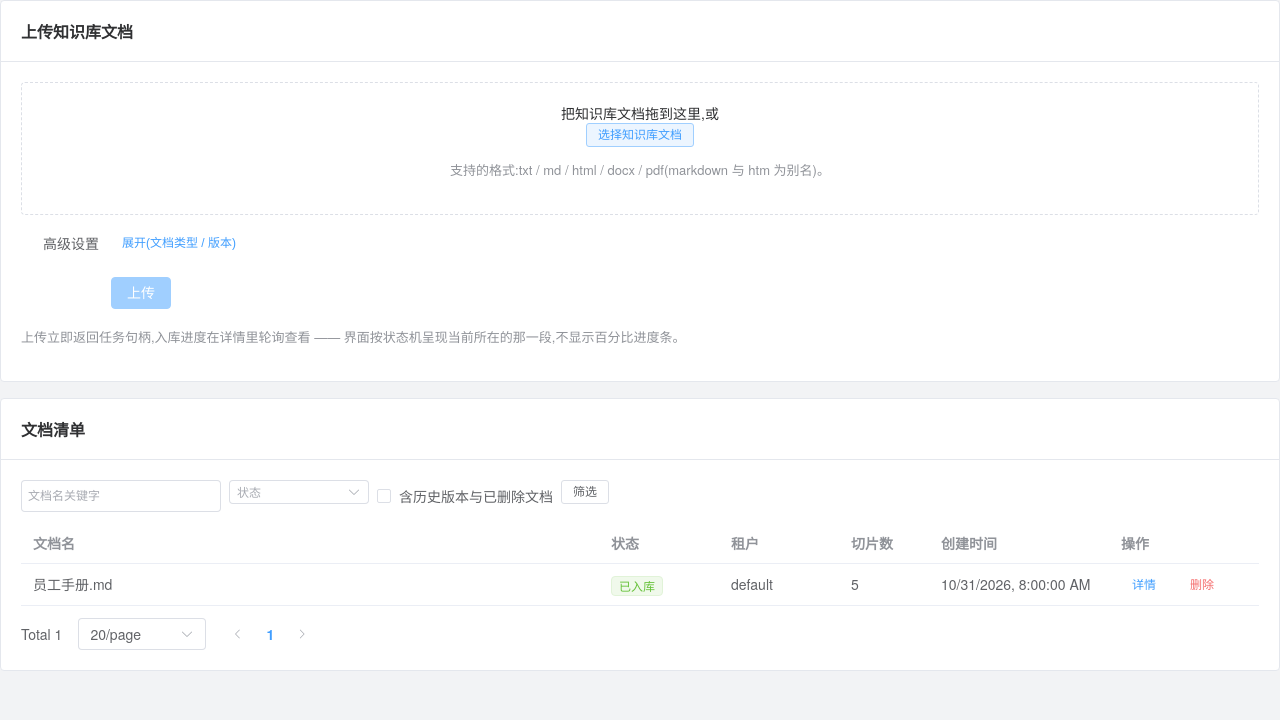
知识库文档页组件行为 › 入库进度 › 界面不展示百分比进度条
Expected: the row "员工手册.md 已入库 default 5 10/31/2026, 8:00:00 AM 详情 删除" is shown, x1=21 y1=564 x2=1259 y2=606
What coordinates should you click on to do the following:
click the button with test id "documents-detail-doc-1"
I would click on:
 (1144, 585)
Its box is x1=1121 y1=573 x2=1167 y2=597.
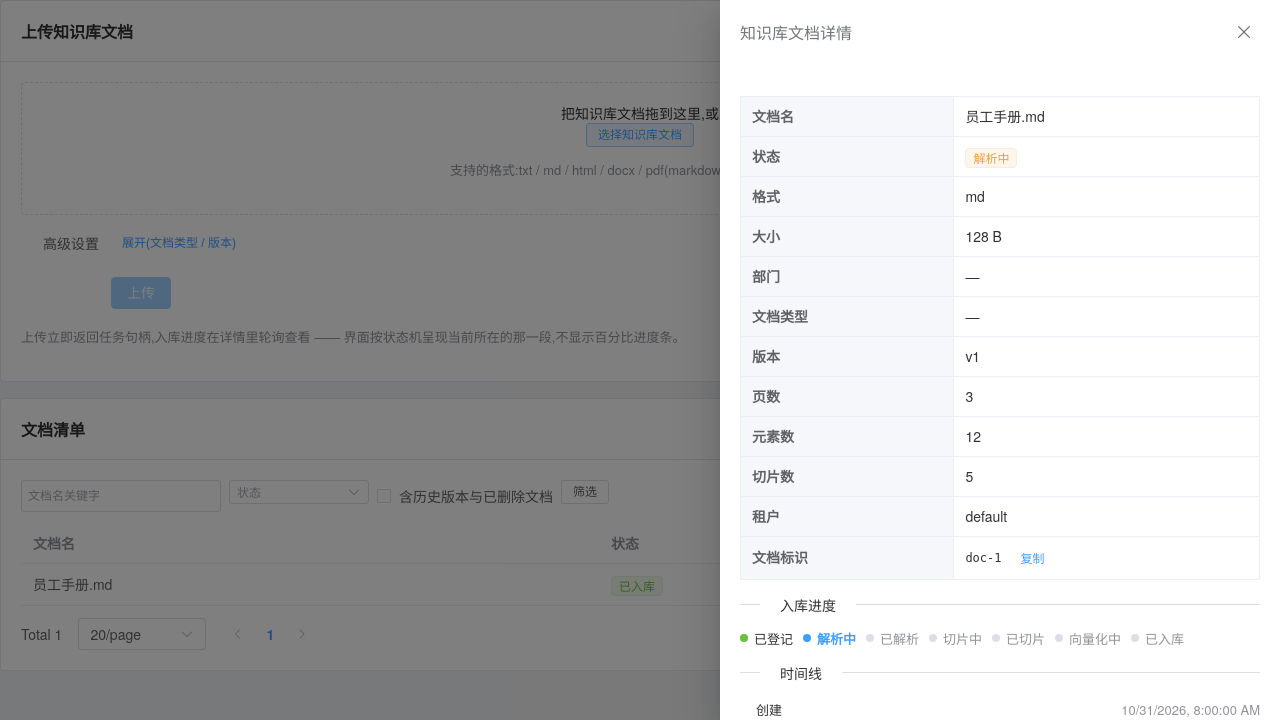
Now the element with test id "documents-progress" is shown, box x1=740 y1=629 x2=1260 y2=648
